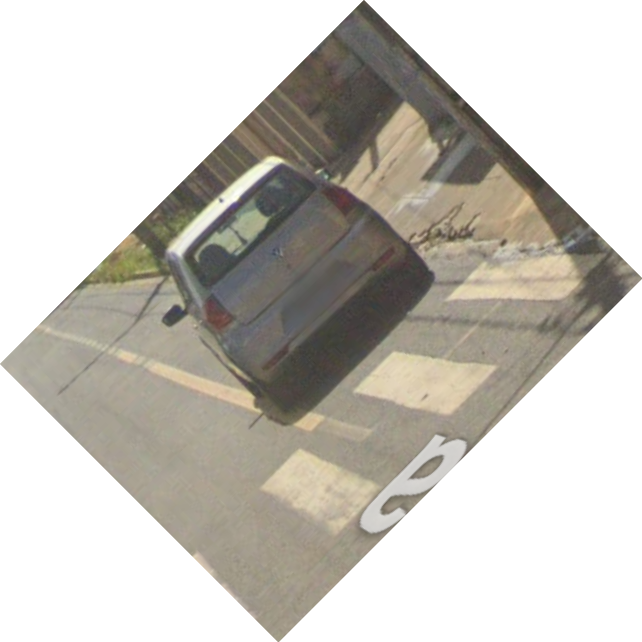car: (155, 154, 422, 395)
